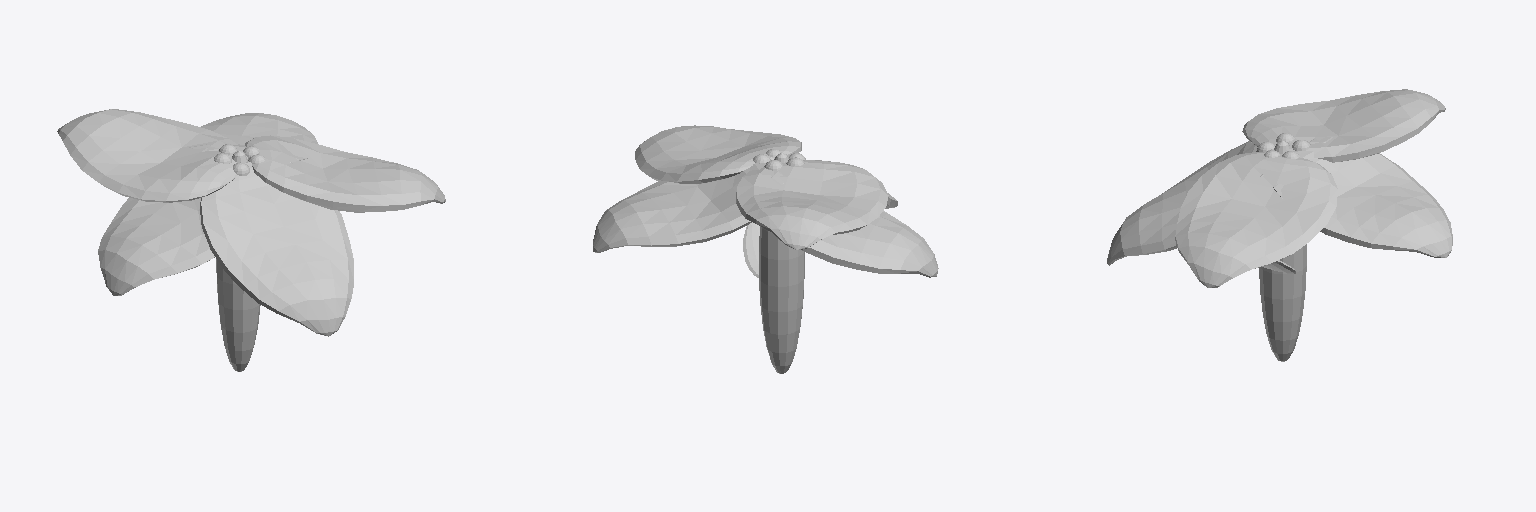
Rendered from daisy.obj.
3 views of the same model, side by side, from view 1: azimuth 30°, elevation 25°; view 2: azimuth 150°, elevation 25°; view 3: azimuth 270°, elevation 25° (orthographic).
Size of the model in its own units: 8.17 by 5.67 by 7.82.